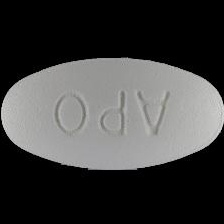60505-3280: (0, 0, 224, 224)
